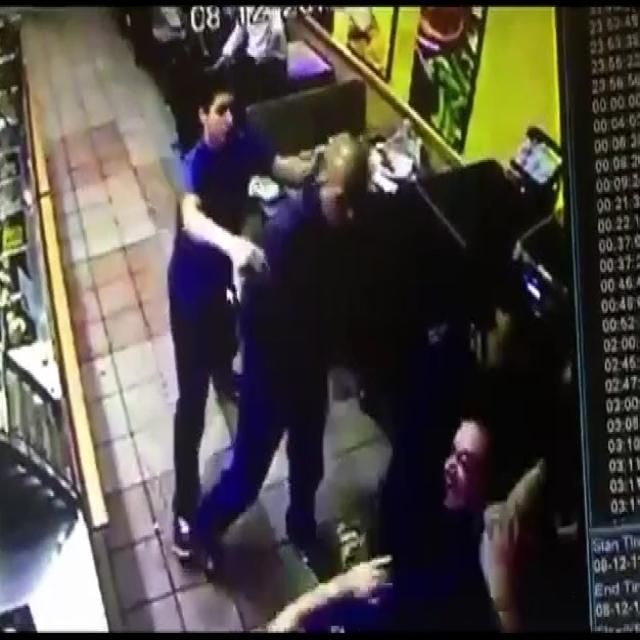fight: (229, 126, 535, 640)
